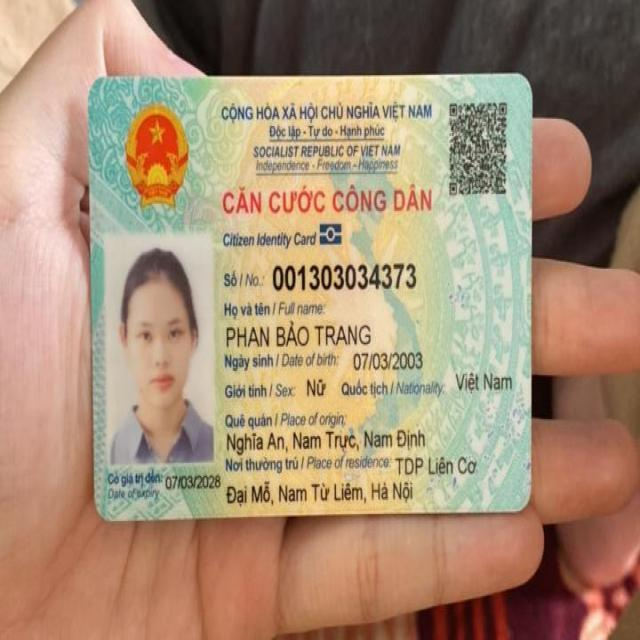bottom_left: (83, 490, 129, 534)
bottom_right: (497, 483, 543, 527)
image_person: (101, 232, 218, 464)
top_left: (75, 69, 118, 109)
top_right: (508, 61, 544, 101)
